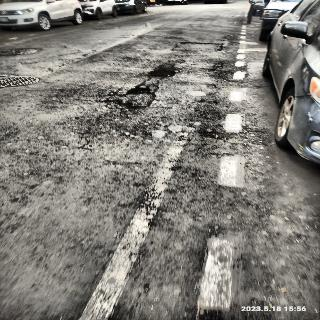pothole: (110, 83, 165, 111), (148, 66, 176, 79)
